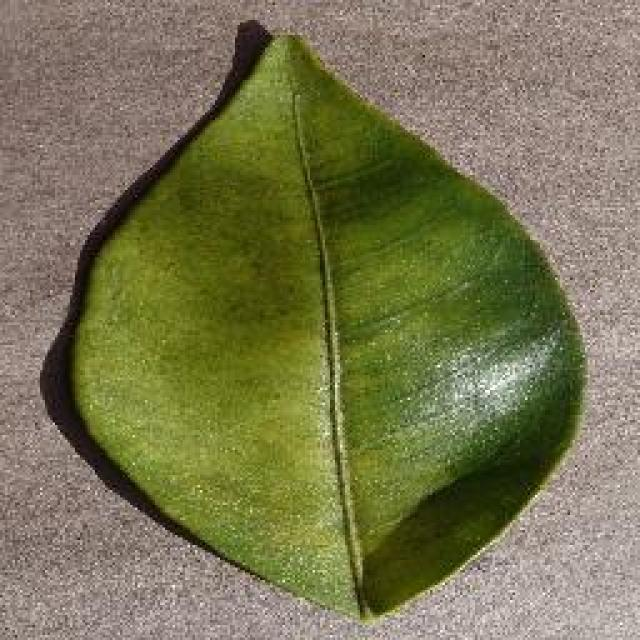Orange_Haunglongbing_Citrus_greening: (106, 143, 540, 556)
